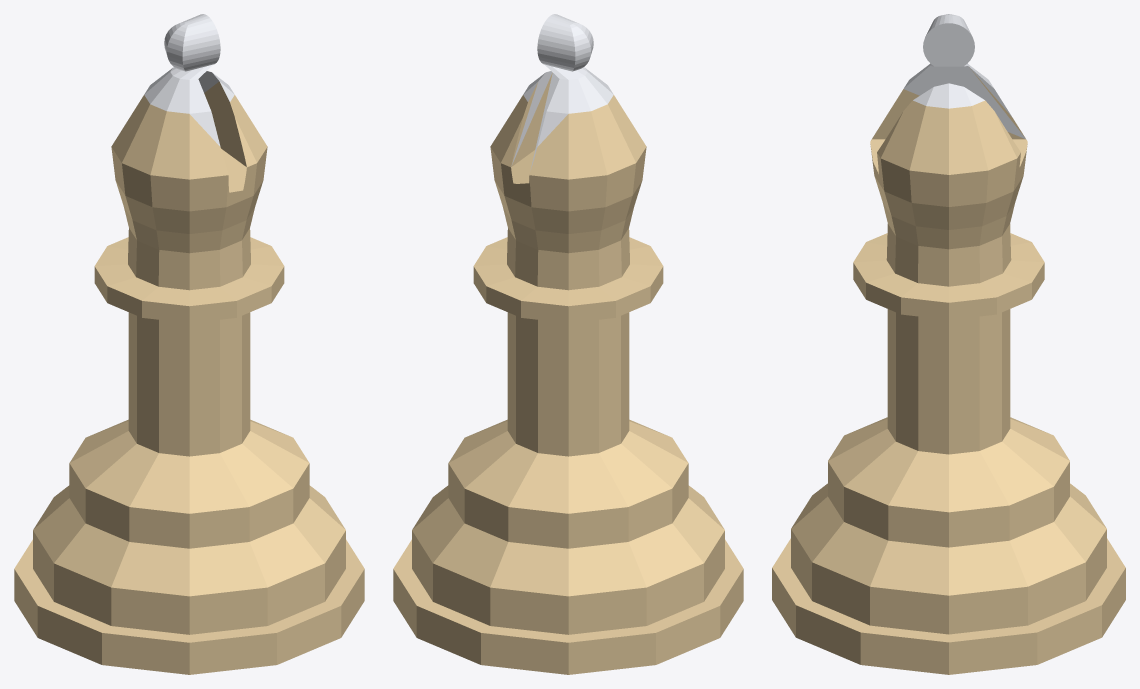
Rendered from lowpoly_b_w.glb.
3 renders of one model, left to right at view 1: azimuth 30°, elevation 25°; view 2: azimuth 150°, elevation 25°; view 3: azimuth 270°, elevation 25°, orthographic.
Parts seen in each view (by area): view 1: x; view 2: x; view 3: x.
Boxes of the visible parts, x1,y1,x2,y2 form: x: (14,14,364,674); x: (393,14,743,674); x: (772,14,1125,674).
Size of the model in its own units: 0.4922 by 0.9 by 0.4922.
